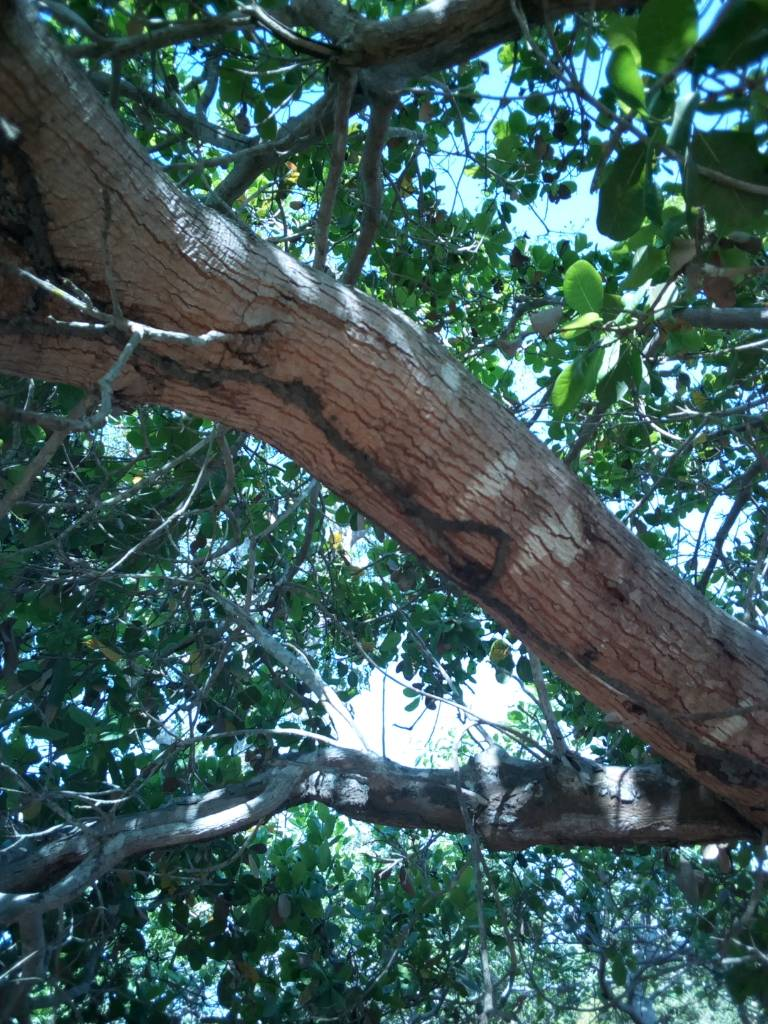Termites: (269, 383, 552, 627)
